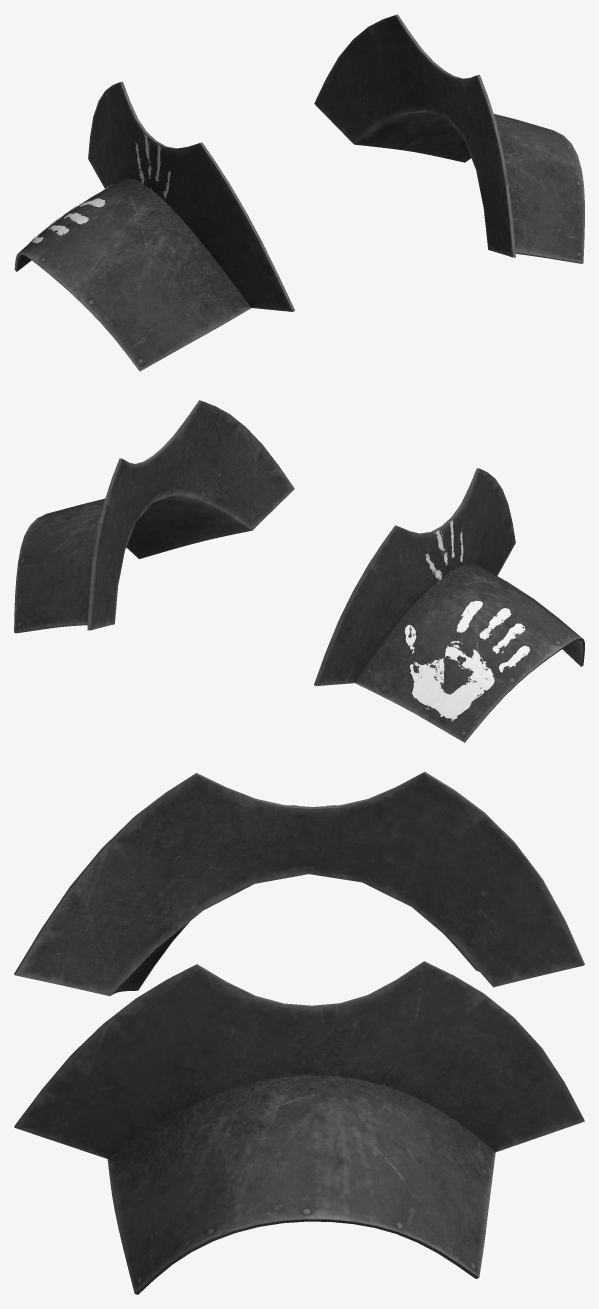
Rendered from sk_uruk_hai_pauldron_med_a2.fbx.
3 renders of one model, top to bottom at view 1: azimuth 30°, elevation 25°; view 2: azimuth 150°, elevation 25°; view 3: azimuth 270°, elevation 25°, orthographic. The views are drawn at different scales.
Visible parts, largest first — view 1: sk_uruk_hai_pauldron_med_a2.0, sk_uruk_hai_pauldron_med_a2.1; view 2: sk_uruk_hai_pauldron_med_a2.0, sk_uruk_hai_pauldron_med_a2.1; view 3: sk_uruk_hai_pauldron_med_a2.0.
Boxes of the visible parts, <box> form: sk_uruk_hai_pauldron_med_a2.0: <box>14,14,584,371</box>; sk_uruk_hai_pauldron_med_a2.1: <box>28,132,170,243</box>; sk_uruk_hai_pauldron_med_a2.0: <box>14,400,584,742</box>; sk_uruk_hai_pauldron_med_a2.1: <box>404,520,529,721</box>; sk_uruk_hai_pauldron_med_a2.0: <box>14,772,584,1294</box>.
Bounding box in the file's own units: 0.5963 × 0.3968 × 0.2113.
Materials: 2 (2 with a texture image).
